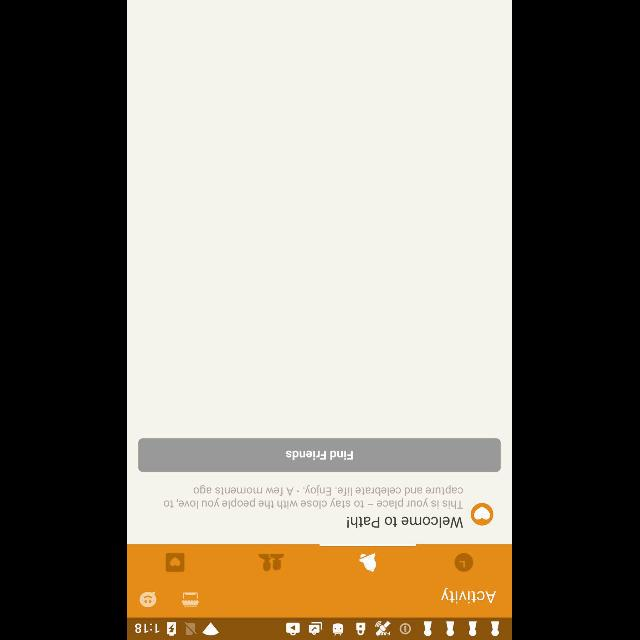icon: (472, 502, 494, 526), (167, 552, 186, 572), (456, 552, 474, 572), (359, 552, 377, 572), (140, 591, 158, 607)
image: (260, 554, 284, 572), (182, 592, 200, 606)
text: (164, 485, 464, 509), (348, 516, 464, 528), (442, 586, 496, 604)
textbutton: (138, 438, 502, 472)
uppertaskbar: (128, 617, 512, 639)
